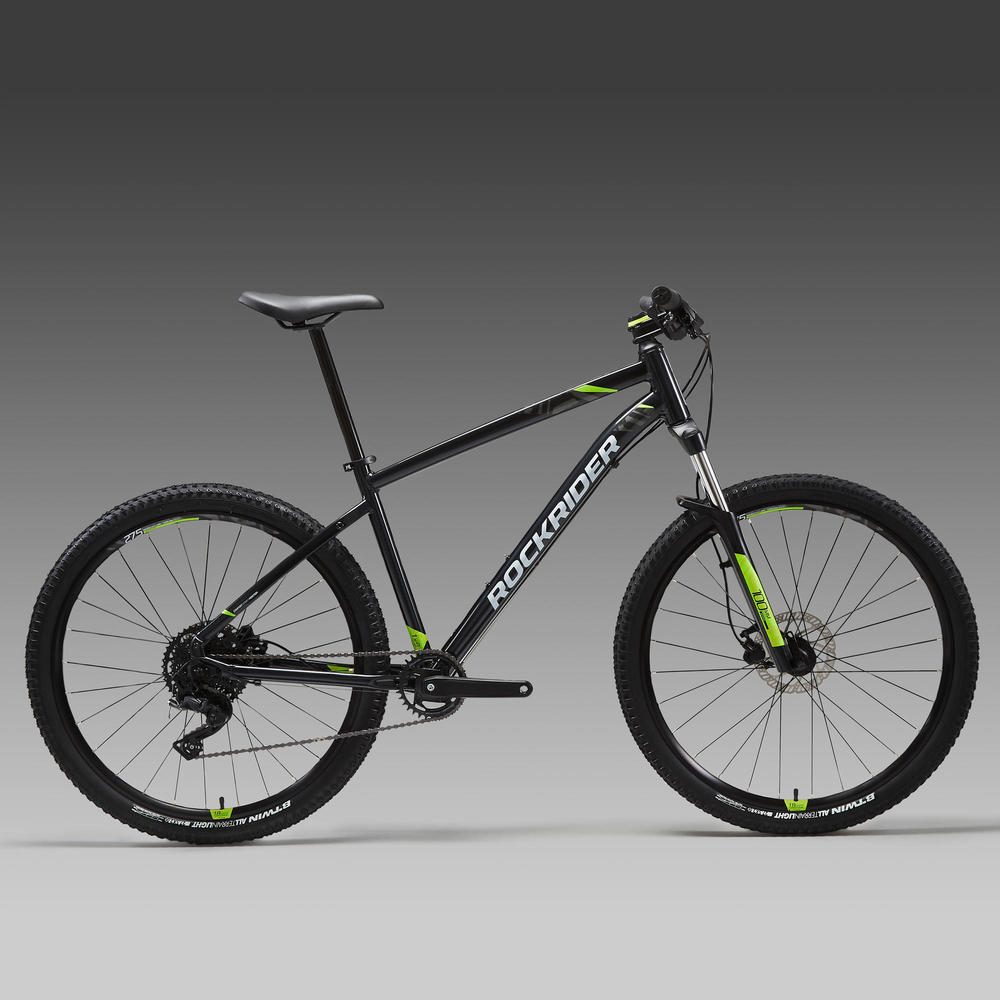MountainBike: (4, 272, 999, 870)
